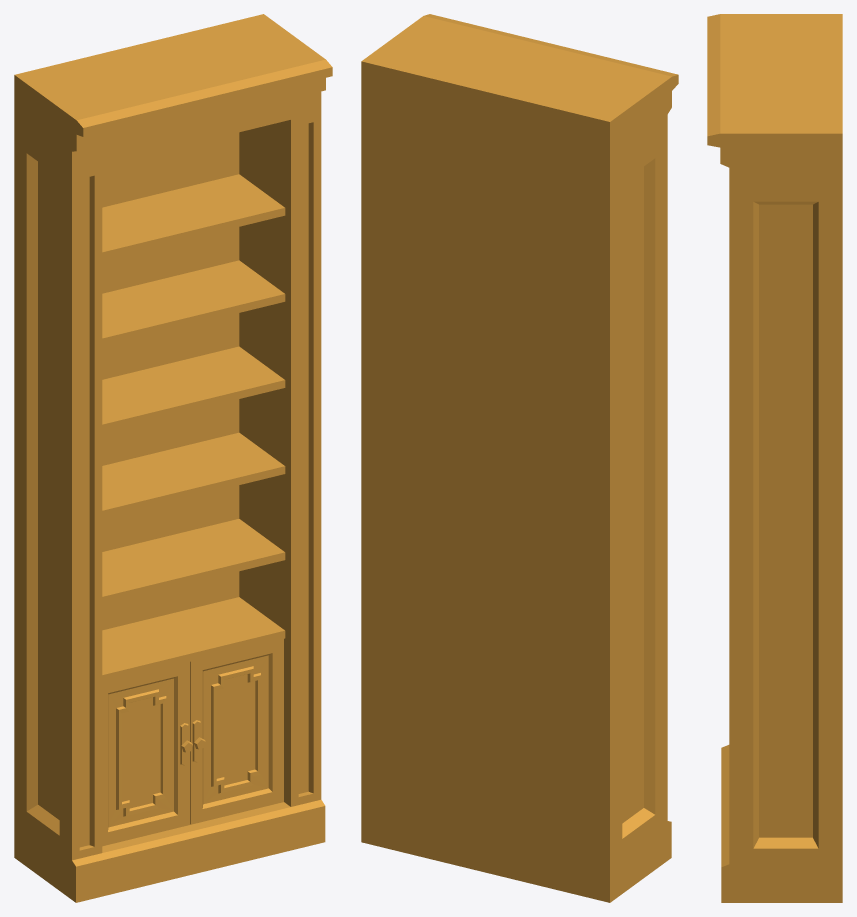
Rendered from Sm_Bookcase_Modular_Cabinet_1m.fbx.
3 views of the same model, side by side, from view 1: azimuth 30°, elevation 25°; view 2: azimuth 150°, elevation 25°; view 3: azimuth 270°, elevation 25° (orthographic).
Parts seen in each view (by area): view 1: library-modular-cabinet-1m-base, library-modular-cabinet-1m-door-r, library-modular-cabinet-1m-door-l; view 2: library-modular-cabinet-1m-base; view 3: library-modular-cabinet-1m-base.
Boxes of the visible parts, box(x1,y1,x2,y2) form: library-modular-cabinet-1m-base: box(14, 14, 332, 902); library-modular-cabinet-1m-door-r: box(190, 639, 283, 824); library-modular-cabinet-1m-door-l: box(102, 661, 192, 846); library-modular-cabinet-1m-base: box(361, 14, 678, 902); library-modular-cabinet-1m-base: box(707, 14, 842, 902).
Bounding box in the file's own units: 1 × 3 × 0.4778.
